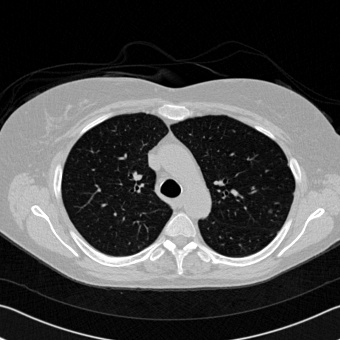PN: (268, 209, 272, 213)
